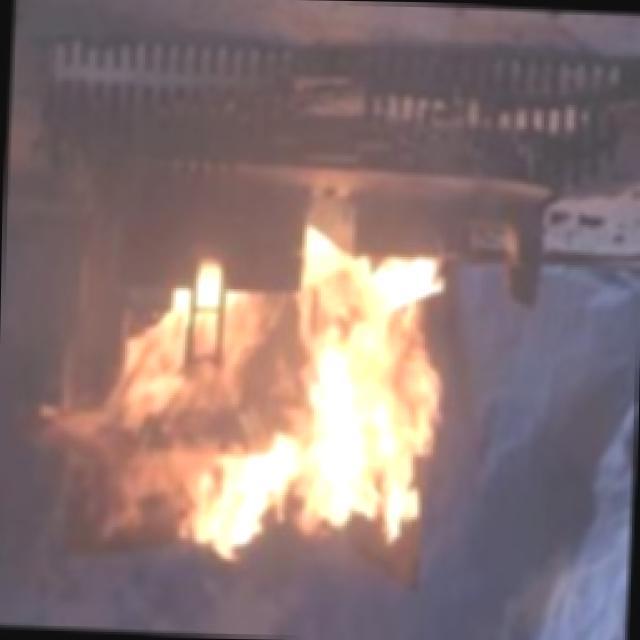fire: (67, 228, 458, 585)
